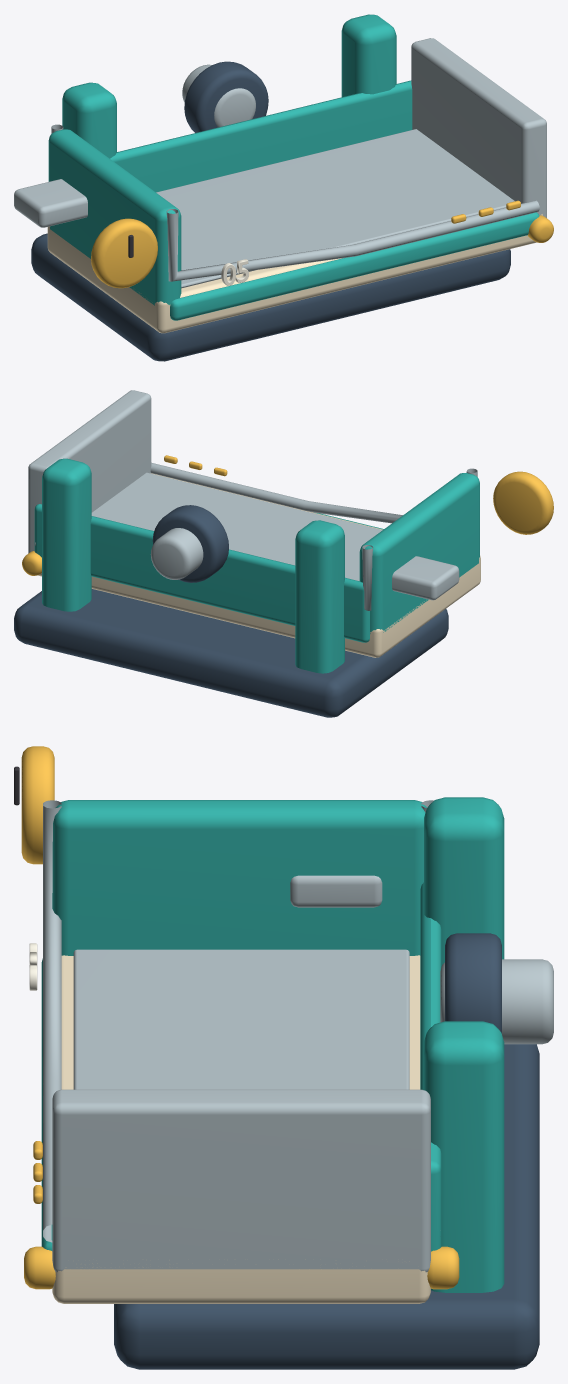
The model's file is bucket.glb.
3 renders of one model, top to bottom at view 1: azimuth 30°, elevation 25°; view 2: azimuth 150°, elevation 25°; view 3: azimuth 270°, elevation 25°, orthographic. The views are drawn at different scales.
Parts seen in each view (by area): view 1: Batch Teal enamel (×2), Batch Brushed steel (×2), Batch Midnight enamel, Hinged pouring gate, Continuous polished basin, Timing dial, Batch Mustard enamel, Bucket maker badge; view 2: Batch Teal enamel (×2), Batch Midnight enamel, Batch Brushed steel (×2), Hinged pouring gate, Continuous polished basin, Timing dial, Batch Mustard enamel; view 3: Batch Teal enamel (×2), Hinged pouring gate, Batch Brushed steel (×2), Batch Midnight enamel, Continuous polished basin, Timing dial, Batch Mustard enamel.
Boxes of the visible parts, x1=… form: Batch Teal enamel (×2): x1=48, y1=14, x2=539, y2=320; Batch Brushed steel (×2): x1=14, y1=64, x2=539, y2=288; Batch Midnight enamel: x1=31, y1=61, x2=510, y2=361; Hinged pouring gate: x1=411, y1=38, x2=546, y2=217; Continuous polished basin: x1=47, y1=214, x2=542, y2=333; Timing dial: x1=91, y1=218, x2=157, y2=288; Batch Mustard enamel: x1=451, y1=200, x2=553, y2=242; Bucket maker badge: x1=221, y1=259, x2=248, y2=285; Batch Teal enamel (×2): x1=34, y1=458, x2=479, y2=673; Batch Midnight enamel: x1=14, y1=505, x2=448, y2=717; Batch Brushed steel (×2): x1=35, y1=462, x2=477, y2=610; Hinged pouring gate: x1=28, y1=390, x2=151, y2=553; Continuous polished basin: x1=37, y1=473, x2=480, y2=657; Timing dial: x1=493, y1=471, x2=553, y2=534; Batch Mustard enamel: x1=22, y1=455, x2=227, y2=575; Batch Teal enamel (×2): x1=41, y1=797, x2=504, y2=1292; Hinged pouring gate: x1=52, y1=1089, x2=430, y2=1272; Batch Brushed steel (×2): x1=43, y1=800, x2=553, y2=1242; Batch Midnight enamel: x1=114, y1=933, x2=539, y2=1369; Continuous polished basin: x1=52, y1=955, x2=430, y2=1303; Timing dial: x1=21, y1=746, x2=54, y2=864; Batch Mustard enamel: x1=24, y1=1141, x2=459, y2=1289.
Bounding box in the file's own units: 1.85 × 0.735 × 1.14.
